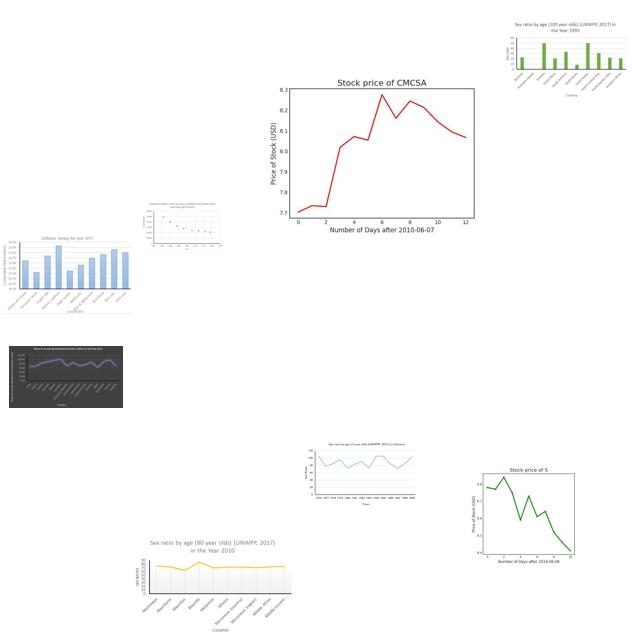Graph: (260, 63, 498, 242), (130, 537, 294, 634), (457, 461, 597, 566), (2, 235, 133, 314), (502, 19, 627, 99), (302, 438, 418, 508), (9, 346, 123, 408), (141, 201, 224, 253)
